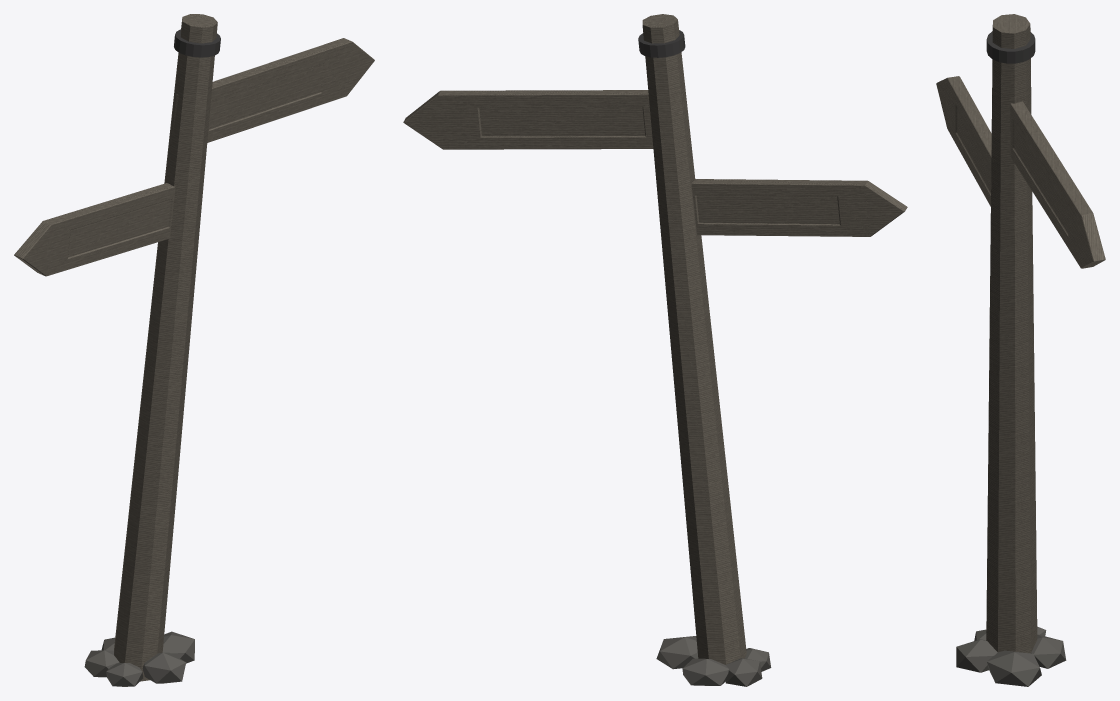
The model's file is prop-signpost.glb.
3 views of the same model, side by side, from view 1: azimuth 30°, elevation 25°; view 2: azimuth 150°, elevation 25°; view 3: azimuth 270°, elevation 25° (orthographic). The views are drawn at different scales.
Parts seen in each view (by area): view 1: SignWoodJ, rock4, SignIron, rock0, rock3, rock2; view 2: SignWoodJ, rock1, rock0, rock2, SignIron; view 3: SignWoodJ, rock0, rock4, SignIron, rock1.
Boxes of the visible parts, bbox=[...] form: SignWoodJ: bbox=[14, 14, 374, 681]; rock4: bbox=[142, 652, 186, 683]; SignIron: bbox=[174, 29, 220, 57]; rock0: bbox=[162, 631, 194, 663]; rock3: bbox=[106, 663, 143, 686]; rock2: bbox=[84, 650, 119, 677]; SignWoodJ: bbox=[403, 14, 907, 664]; rock1: bbox=[682, 658, 728, 685]; rock0: bbox=[656, 636, 698, 669]; rock2: bbox=[725, 658, 762, 686]; SignIron: bbox=[638, 30, 685, 57]; SignWoodJ: bbox=[936, 14, 1105, 653]; rock0: bbox=[987, 650, 1041, 686]; rock4: bbox=[956, 639, 997, 672]; SignIron: bbox=[986, 31, 1035, 63]; rock1: bbox=[1031, 634, 1066, 668].
Size of the model in its own units: 1.68 by 2.39 by 0.5426.
3 materials, 1 textured.
